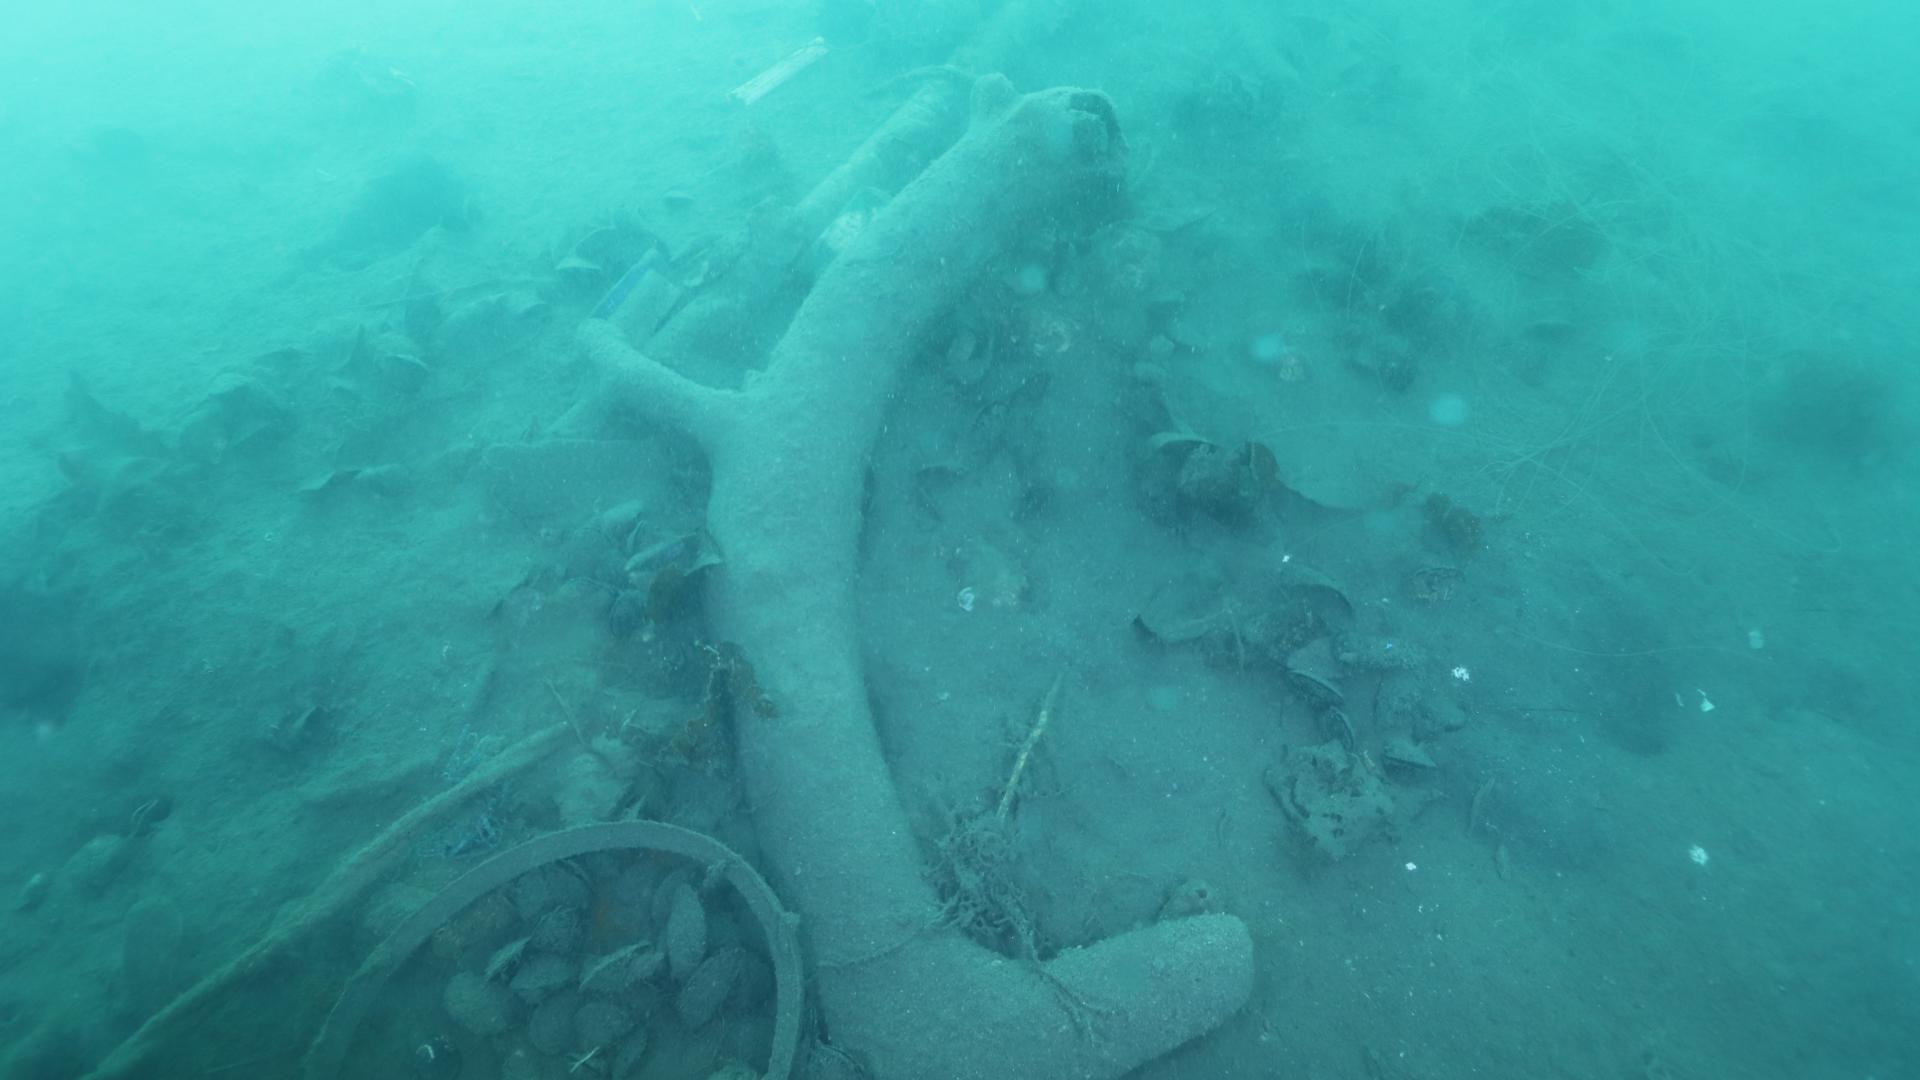wood: (578, 71, 1261, 1080)
